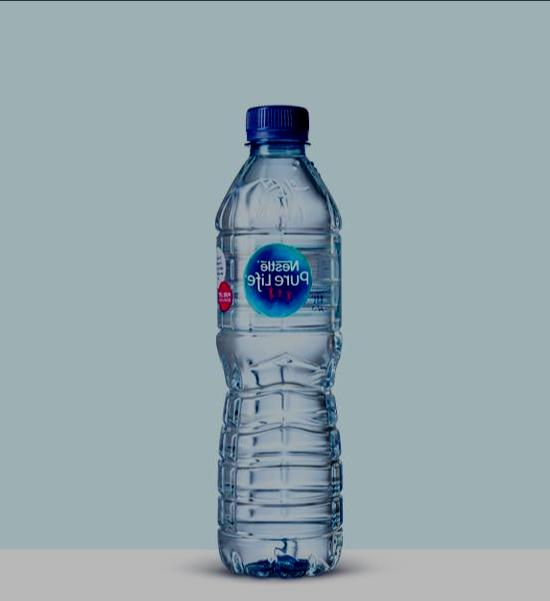bottle: (204, 89, 354, 586)
